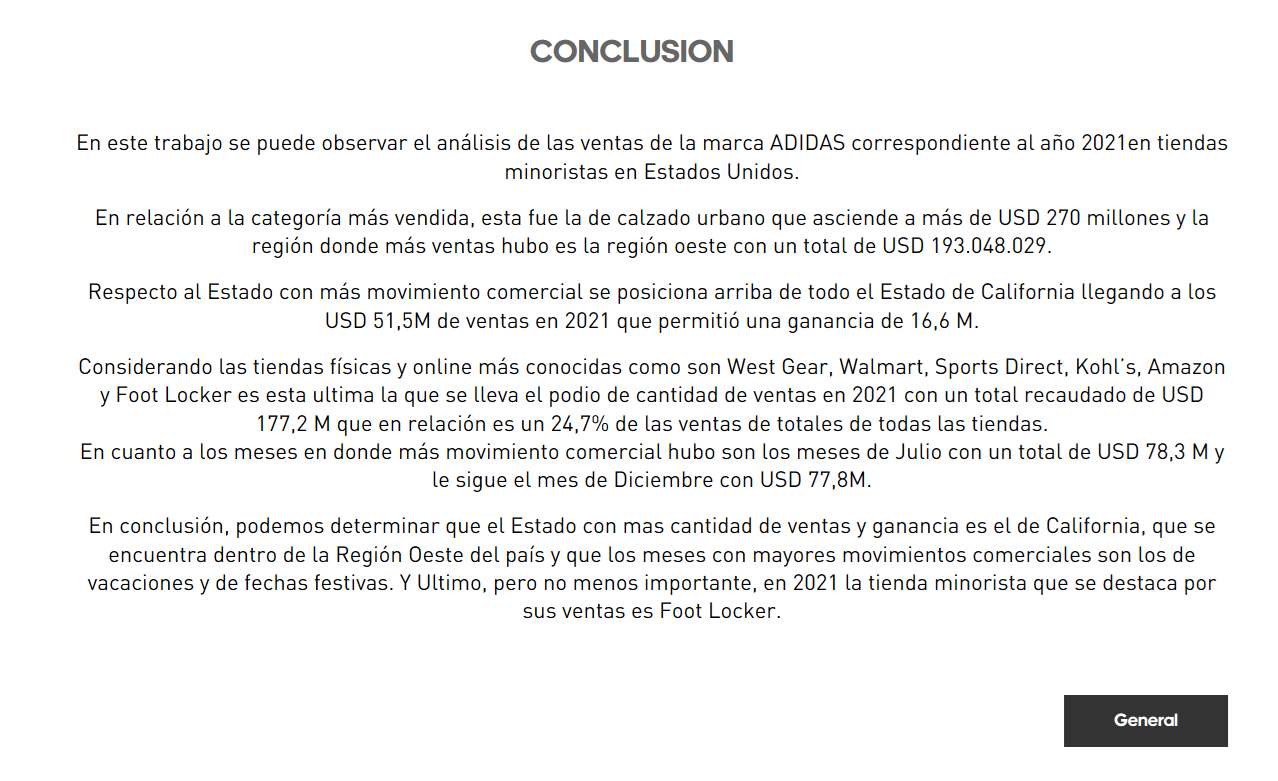

The dashboard page shown, as its layout file describes it:
{"tool":"tableau","page":{"name":"Conclusión","canvas":[1300,800],"ordinal":0},"visuals":[{"type":"text","box":[438,37.2,410,52.1]},{"type":"text","box":[84,120.9,1158,543.3]},{"type":"dashboard-object","box":[1075,704,164,52]}]}

Visuals, with their boxes in screenshot pixels (x1, y1, x2, y2), scaled from the page's 1300x800 canvas onto the 1278x781 screenshot:
text: [x1=431, y1=36, x2=834, y2=87]
text: [x1=83, y1=118, x2=1221, y2=648]
dashboard-object: [x1=1057, y1=687, x2=1218, y2=738]
